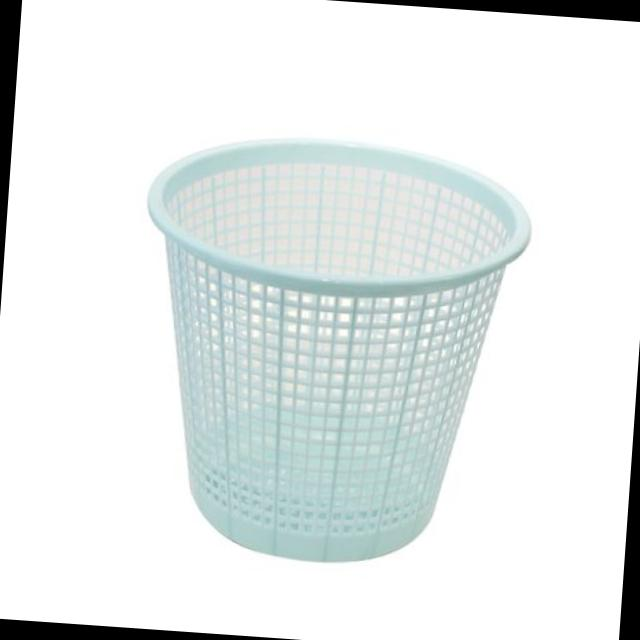dustbin: (118, 119, 542, 582)
